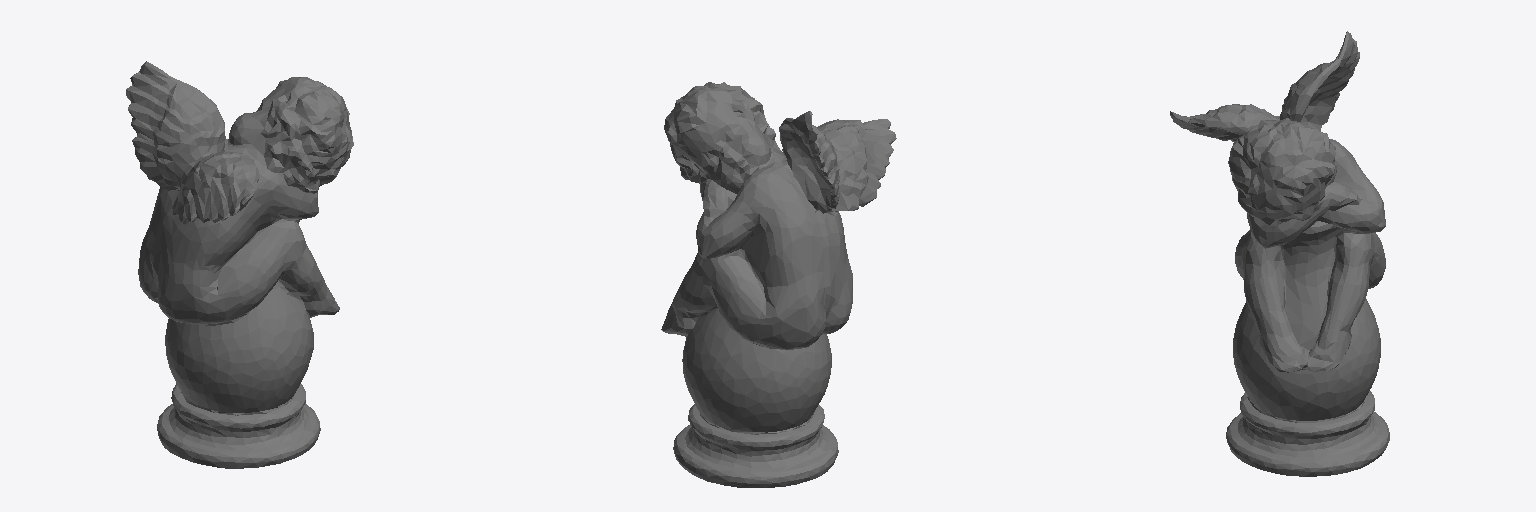
The model's file is statue.obj.
3 renders of one model, left to right at view 1: azimuth 30°, elevation 25°; view 2: azimuth 150°, elevation 25°; view 3: azimuth 270°, elevation 25°, orthographic.
Parts seen in each view (by area): view 1: Statue_Mesh; view 2: Statue_Mesh; view 3: Statue_Mesh.
Boxes of the visible parts, x1=… form: Statue_Mesh: x1=126, y1=61, x2=353, y2=468; Statue_Mesh: x1=661, y1=82, x2=896, y2=487; Statue_Mesh: x1=1170, y1=31, x2=1389, y2=476.
Size of the model in its own units: 4.35 by 8.32 by 4.39.